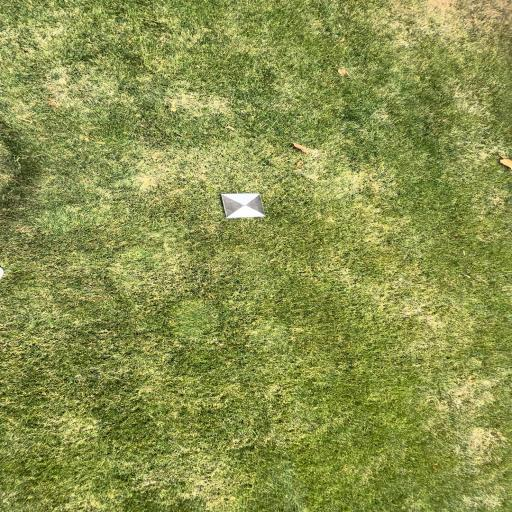target: (223, 193, 266, 217)
